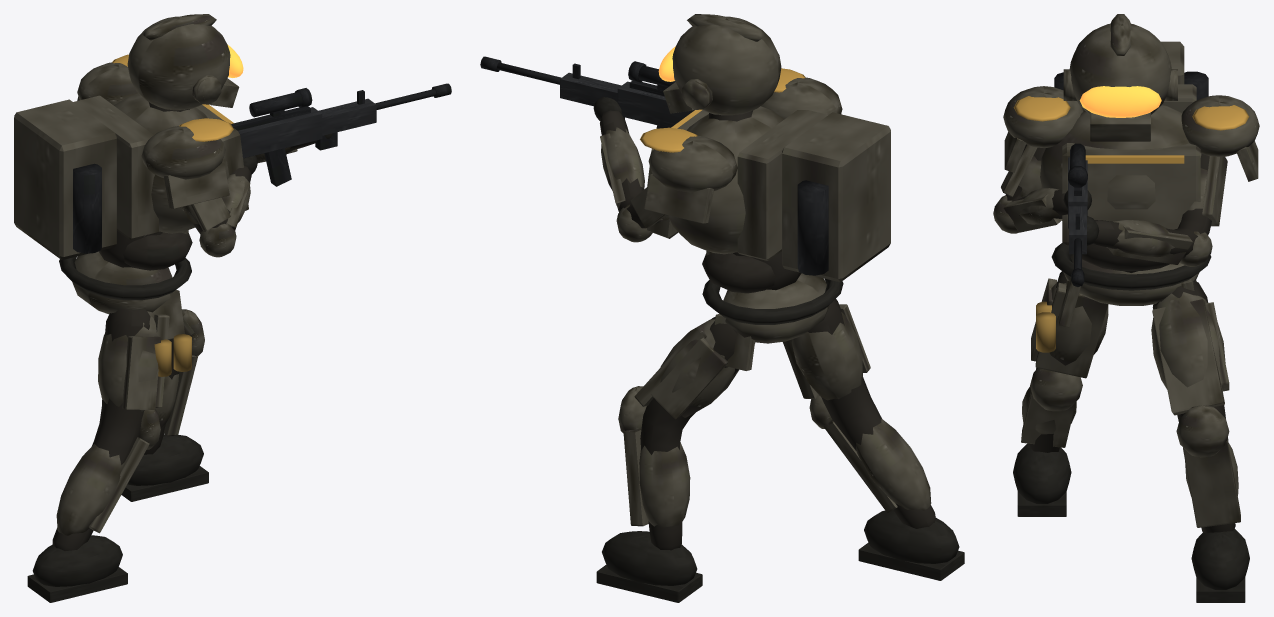
Rendered from unit_odst_2.glb.
3 views of the same model, side by side, from view 1: azimuth 30°, elevation 25°; view 2: azimuth 150°, elevation 25°; view 3: azimuth 270°, elevation 25° (orthographic). The views are drawn at different scales.
Parts seen in each view (by area): view 1: unit_odst_2; view 2: unit_odst_2; view 3: unit_odst_2.
Boxes of the visible parts, left/top/right/bottom form: unit_odst_2: left=14, top=14, right=451, bottom=602; unit_odst_2: left=480, top=14, right=964, bottom=602; unit_odst_2: left=993, top=14, right=1259, bottom=602.
Bounding box in the file's own units: 1.59 × 1.8 × 0.7969.
Materials: 8 (5 with a texture image).
